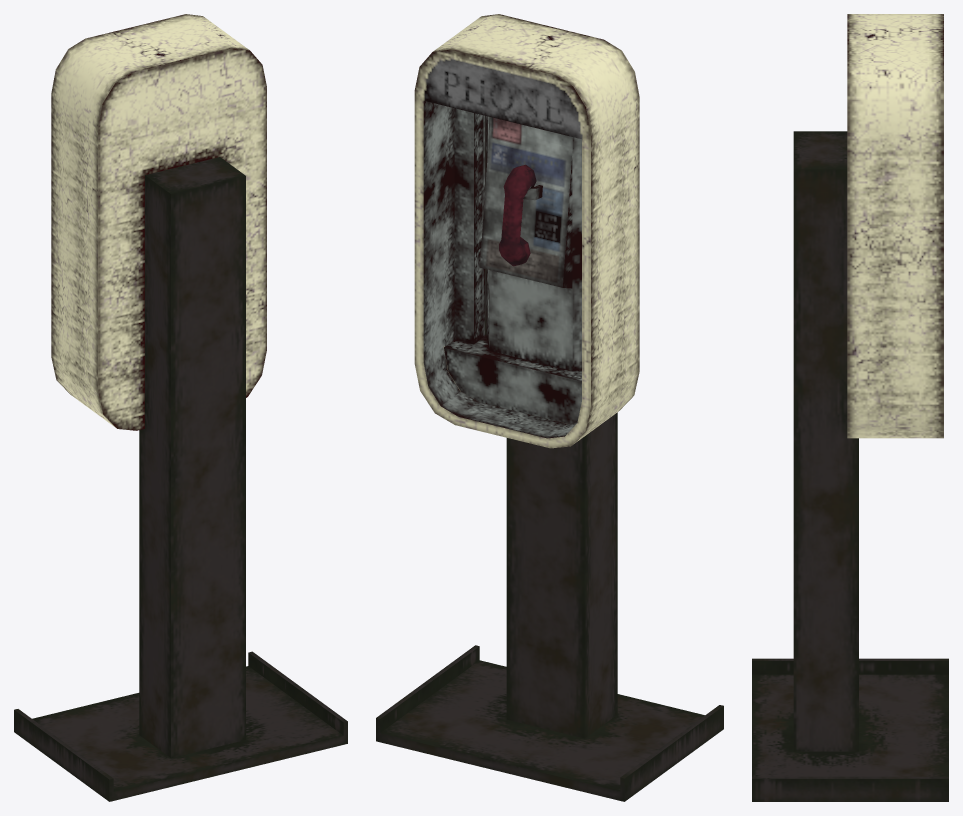
File: phone_booth_ps2.glb
3 views of the same model, side by side, from view 1: azimuth 30°, elevation 25°; view 2: azimuth 150°, elevation 25°; view 3: azimuth 270°, elevation 25° (orthographic). The views are drawn at different scales.
Visible parts, largest first — view 1: BAKE_0; view 2: BAKE_0; view 3: BAKE_0.
Part boxes in pixels (bbox=[...]): BAKE_0: bbox=[14, 14, 347, 801]; BAKE_0: bbox=[376, 14, 723, 801]; BAKE_0: bbox=[752, 14, 948, 801].
Bounding box in the file's own units: 0.6063 × 1.65 × 0.4202.
1 material, 1 textured.
